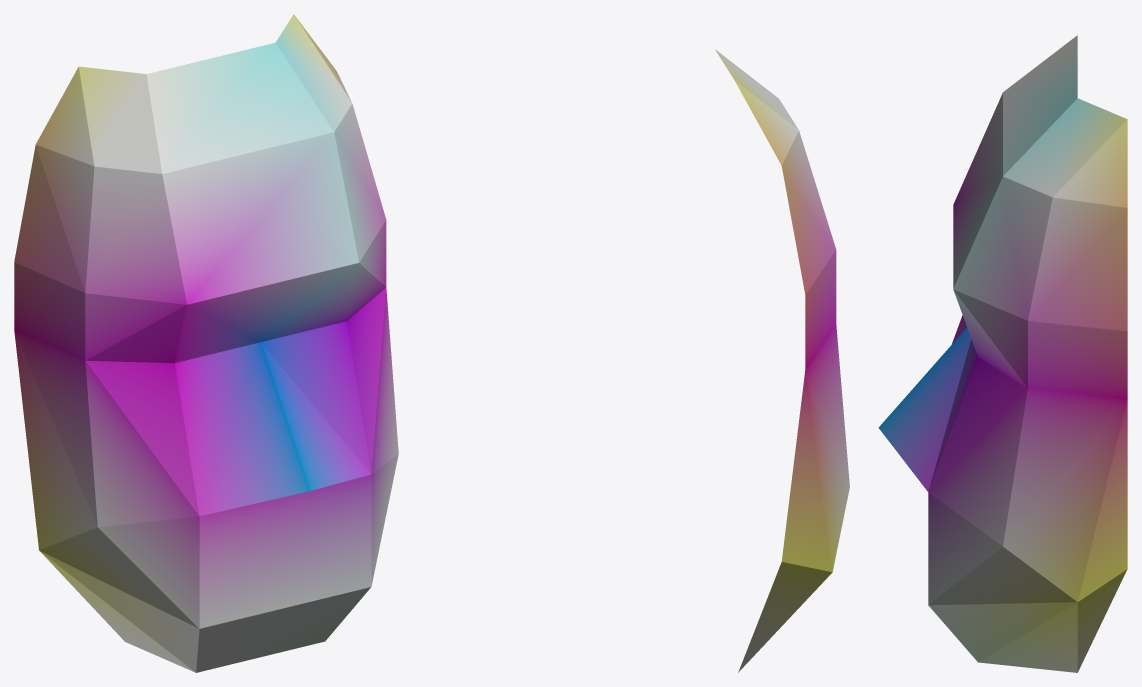
3 views of the same model, side by side, from view 1: azimuth 30°, elevation 25°; view 2: azimuth 150°, elevation 25°; view 3: azimuth 270°, elevation 25° (orthographic). The views are drawn at different scales.
Visible parts, largest first — view 1: model_13FC; view 2: model_13FC; view 3: model_13FC.
Boxes of the visible parts, box(x1,y1,x2,y2) form: model_13FC: box(14, 14, 398, 672); model_13FC: box(715, 49, 849, 672); model_13FC: box(878, 35, 1127, 672).
Bounding box in the file's own units: 16 × 25 × 10.
